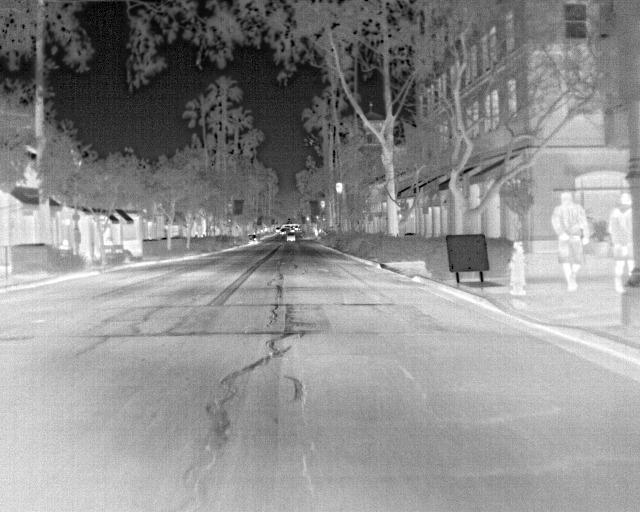bicycle: (284, 230, 299, 243)
empty: (549, 189, 592, 295), (605, 192, 634, 294)
